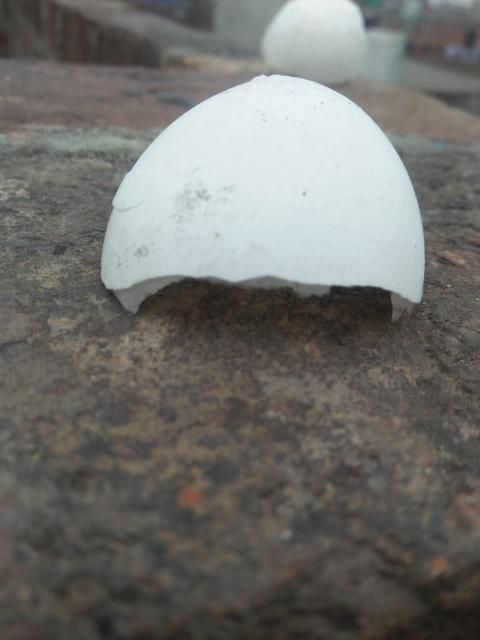Roto: (99, 73, 426, 322)
